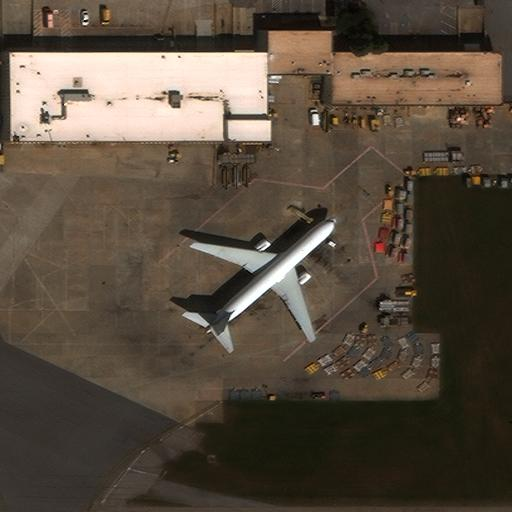Large Civil Transport: (195, 217, 336, 338)
